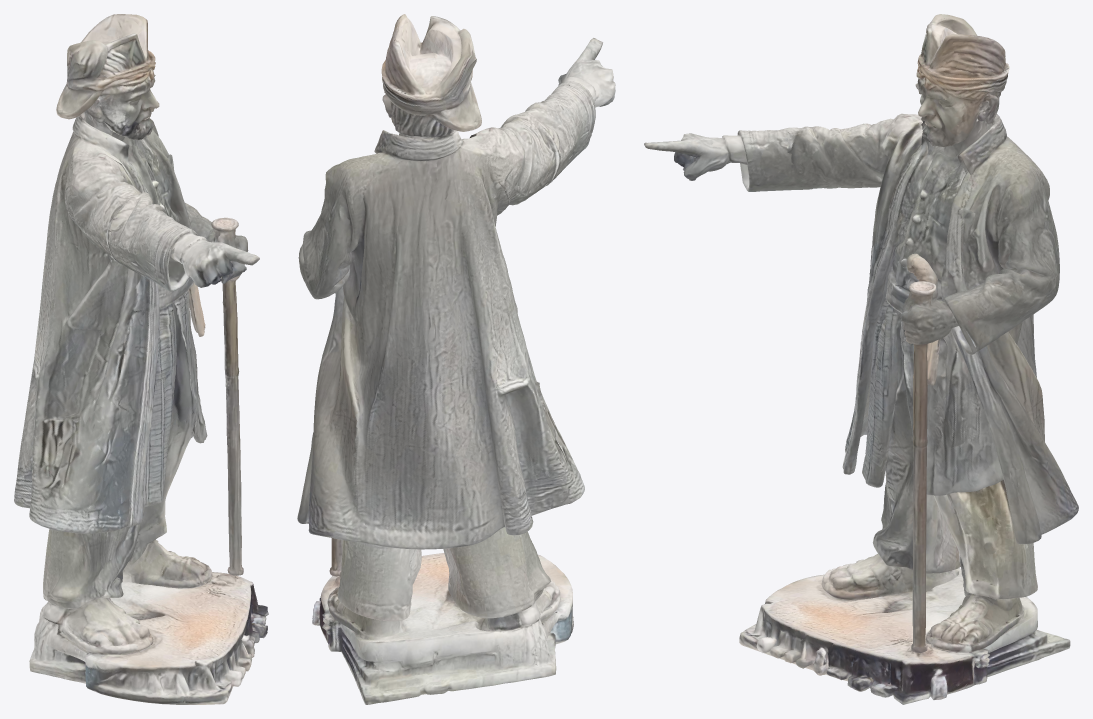
Rendered from patung-oputa.glb.
3 views of the same model, side by side, from view 1: azimuth 30°, elevation 25°; view 2: azimuth 150°, elevation 25°; view 3: azimuth 270°, elevation 25° (orthographic). The views are drawn at different scales.
Visible parts, largest first — view 1: Patung Oputa; view 2: Patung Oputa; view 3: Patung Oputa.
Part boxes in pixels (bbox=[...]): Patung Oputa: bbox=[14, 14, 268, 704]; Patung Oputa: bbox=[297, 14, 615, 704]; Patung Oputa: bbox=[644, 14, 1078, 704].
Bounding box in the file's own units: 0.7883 × 1.9 × 1.2.
1 material, 1 textured.
